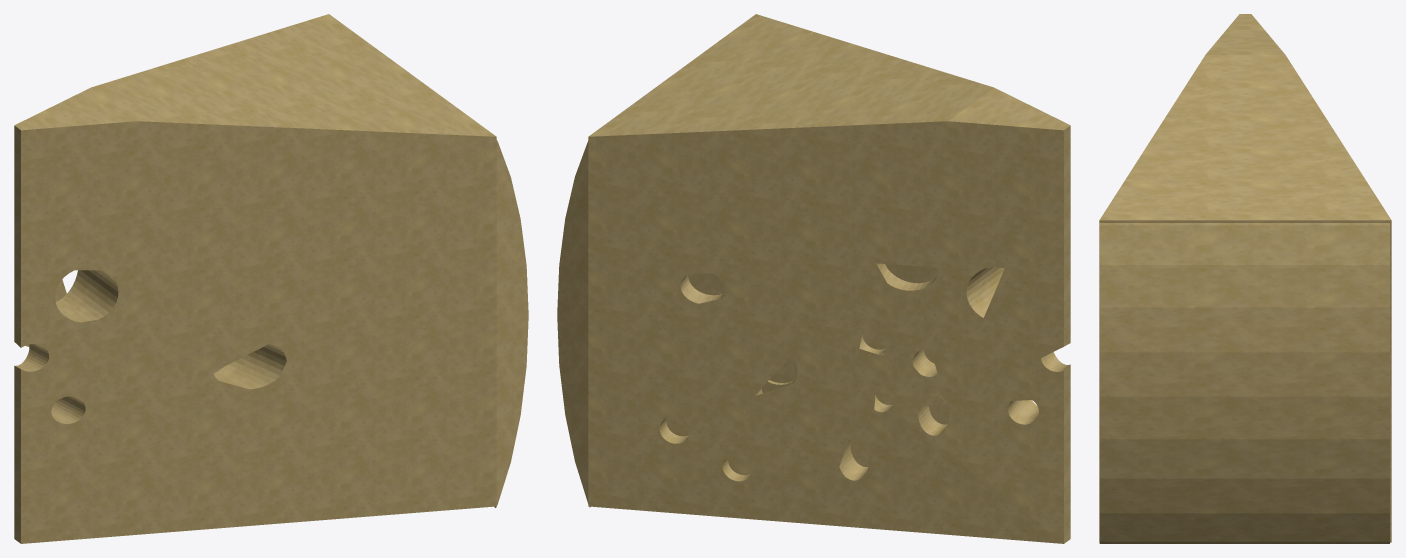
File: quesotextura.obj
3 views of the same model, side by side, from view 1: azimuth 30°, elevation 25°; view 2: azimuth 150°, elevation 25°; view 3: azimuth 270°, elevation 25° (orthographic). The views are drawn at different scales.
Visible parts, largest first — view 1: Cubo; view 2: Cubo; view 3: Cubo.
Part boxes in pixels (box(x1,y1,x2,y2)): Cubo: box(14, 14, 528, 543); Cubo: box(557, 14, 1070, 543); Cubo: box(1099, 14, 1391, 543).
Size of the model in its own units: 1.08 by 1 by 0.7352.
